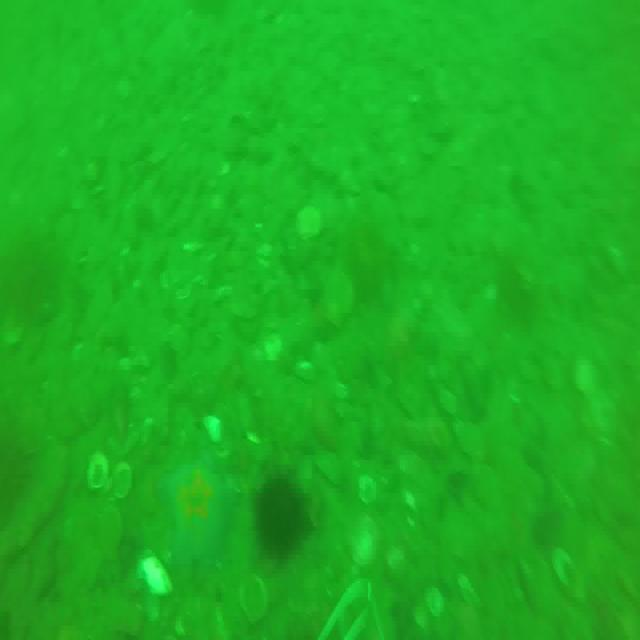echinus: (248, 474, 312, 555)
holothurian: (47, 589, 141, 640)
scallop: (133, 550, 175, 614), (555, 547, 590, 609), (89, 450, 130, 498), (345, 518, 383, 568), (359, 475, 376, 503)
starfish: (167, 448, 234, 576)
